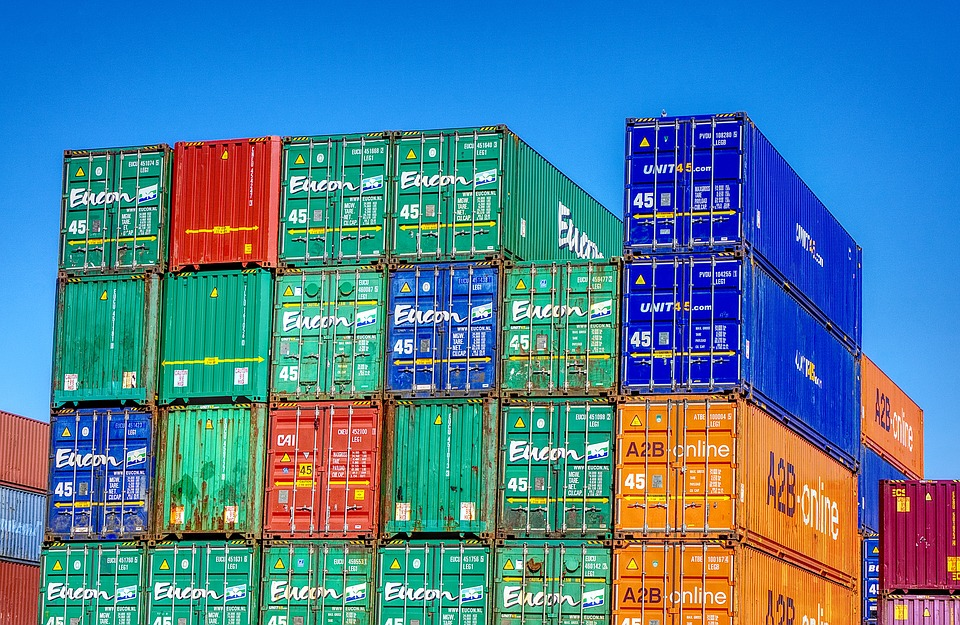container_door: (615, 397, 740, 534), (621, 255, 746, 391), (501, 259, 626, 395), (497, 395, 621, 532), (621, 115, 745, 251), (384, 261, 499, 399), (271, 267, 386, 405), (265, 400, 380, 538), (47, 405, 162, 543), (274, 134, 388, 263), (396, 128, 510, 257), (53, 146, 167, 274), (144, 538, 257, 625), (257, 538, 370, 625), (377, 538, 490, 625), (495, 538, 608, 625), (615, 538, 728, 625), (41, 547, 147, 625)
container_no_door: (50, 270, 157, 402), (160, 267, 267, 399), (157, 404, 264, 536), (383, 406, 490, 538), (173, 139, 272, 267)
